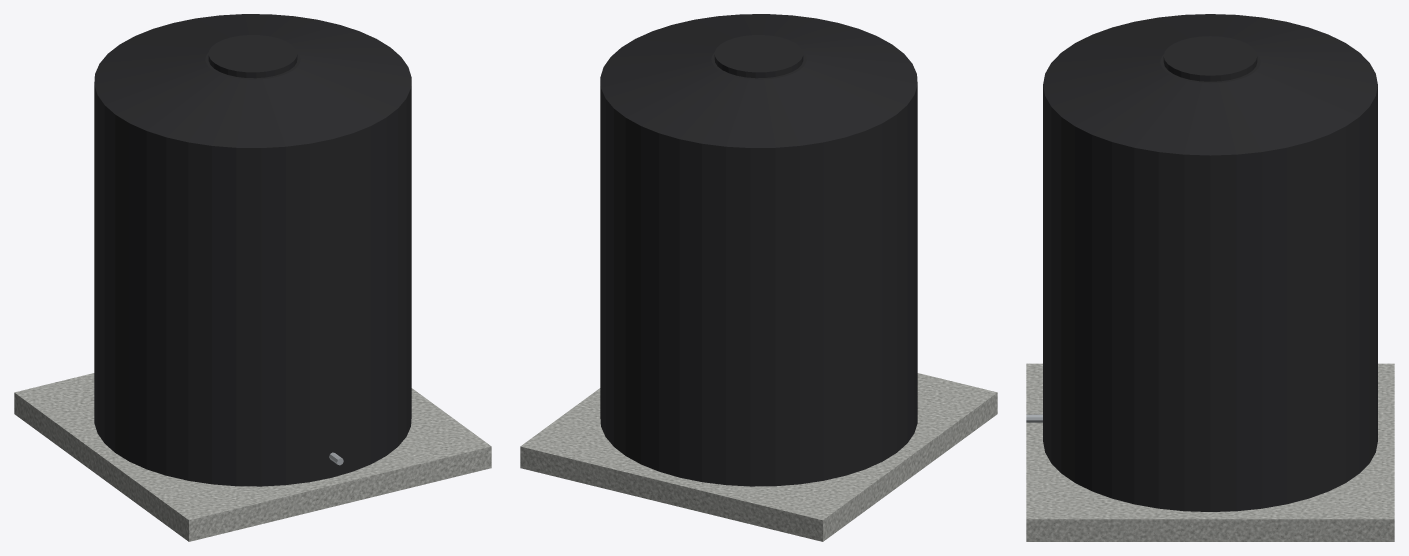
3 renders of one model, left to right at view 1: azimuth 30°, elevation 25°; view 2: azimuth 150°, elevation 25°; view 3: azimuth 270°, elevation 25°, orthographic. The views are drawn at different scales.
Visible parts, largest first — view 1: accessShaft=false;coverDepth=0.8;height=2.5;installation=abo (×2); view 2: accessShaft=false;coverDepth=0.8;height=2.5;installation=abo (×2); view 3: accessShaft=false;coverDepth=0.8;height=2.5;installation=abo (×2).
Boxes of the visible parts, x1=… form: accessShaft=false;coverDepth=0.8;height=2.5;installation=abo (×2): x1=14, y1=14, x2=491, y2=541; accessShaft=false;coverDepth=0.8;height=2.5;installation=abo (×2): x1=520, y1=14, x2=997, y2=541; accessShaft=false;coverDepth=0.8;height=2.5;installation=abo (×2): x1=1026, y1=14, x2=1394, y2=541.
Bounding box in the file's own units: 2.2 × 2.2 × 2.69.
3 materials, 1 textured.
